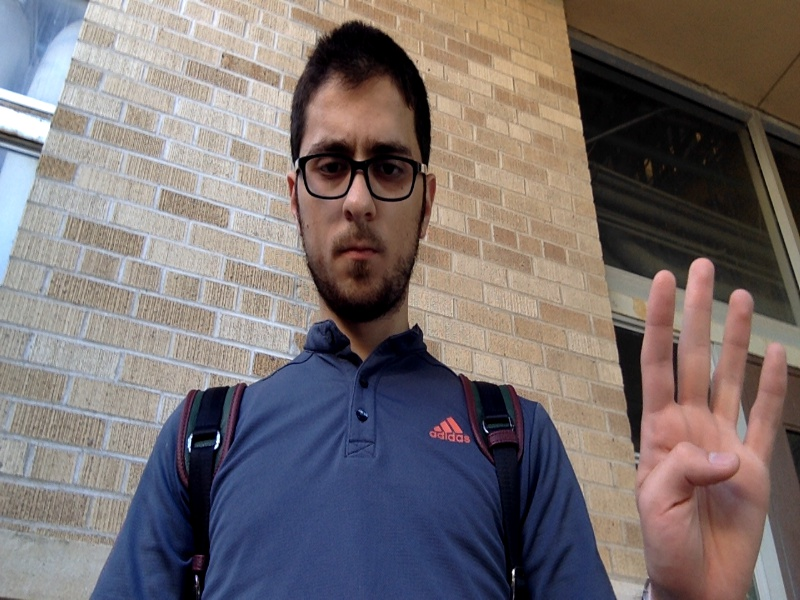4-hand: (638, 258, 786, 600)
